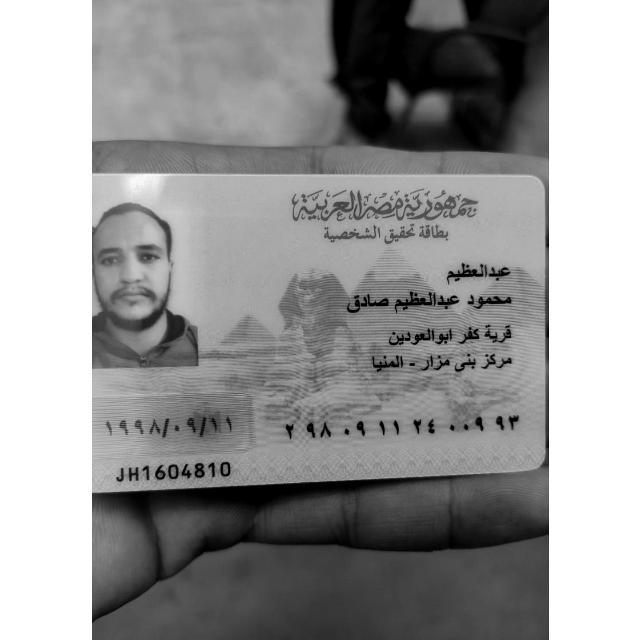front: (91, 174, 545, 491)
